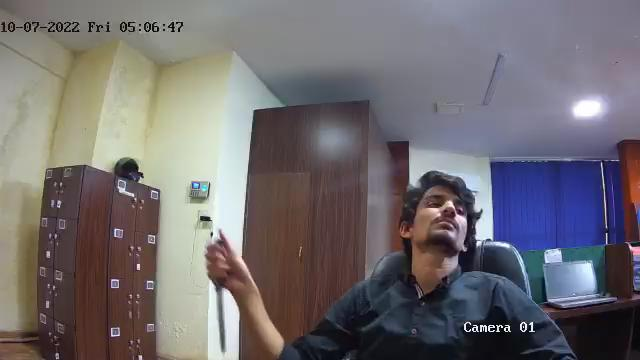knives: (210, 241, 230, 354)
